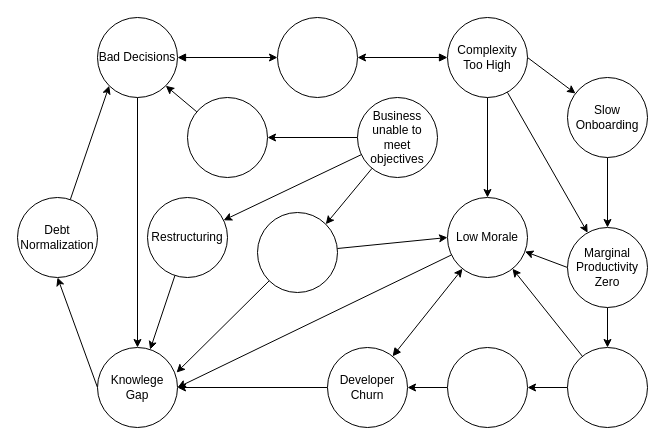
The diagram is 665 pixels wide and 445 high, and some of its shapes have lost their labels. Here are the shapes that lost their labels. From the top down, the box of each, then its label:
(276, 16, 358, 98): Rising Maintenance Costs
(186, 96, 268, 178): Emphasis on short term goals
(256, 212, 338, 292): Layoffs
(446, 346, 528, 428): Frustrated Devs
(566, 346, 648, 428): Neglected Dev Tooling
